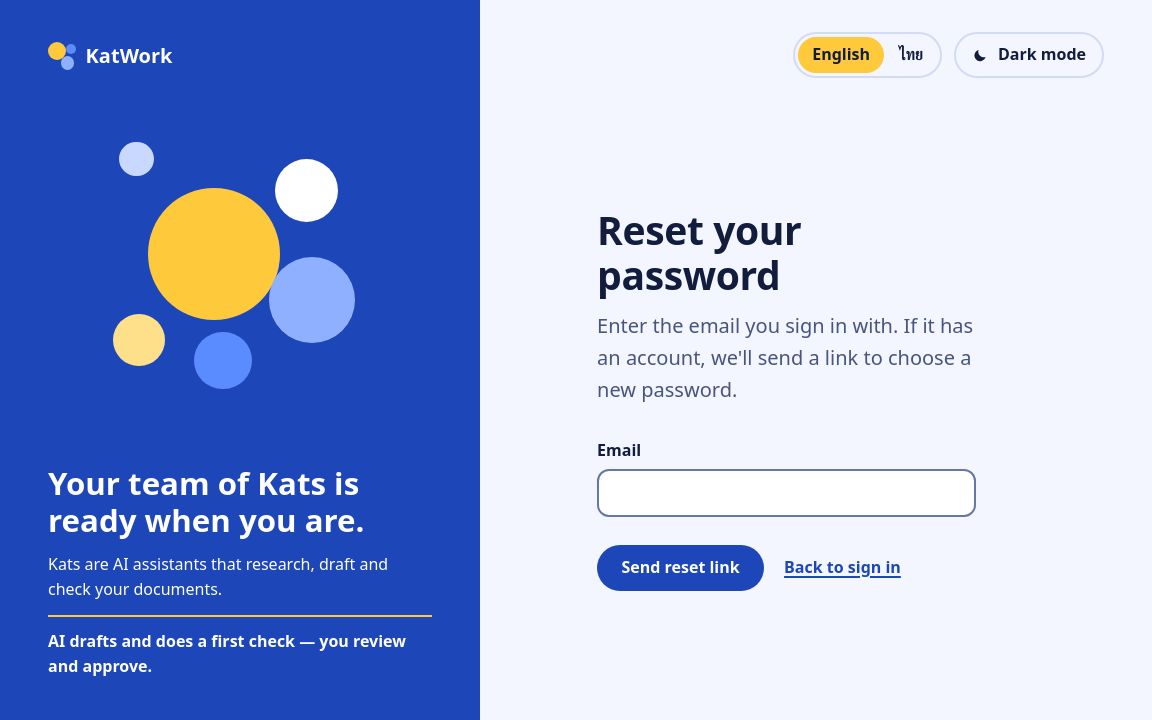
Test: reset_request_network_failure_is_shown
Type "person@example.test" into the field labelled "Email" at (787, 493), box x1=597 y1=469 x2=976 y2=517
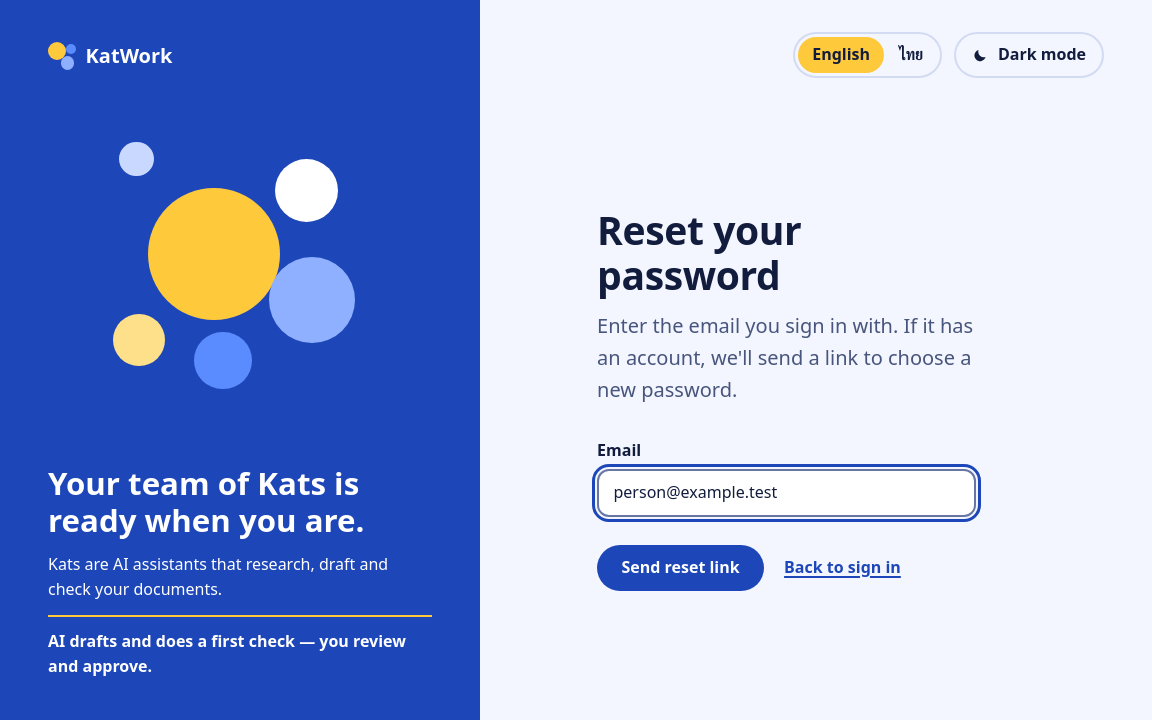
Click the button "Send reset link" at (681, 568), box x1=597 y1=545 x2=764 y2=590
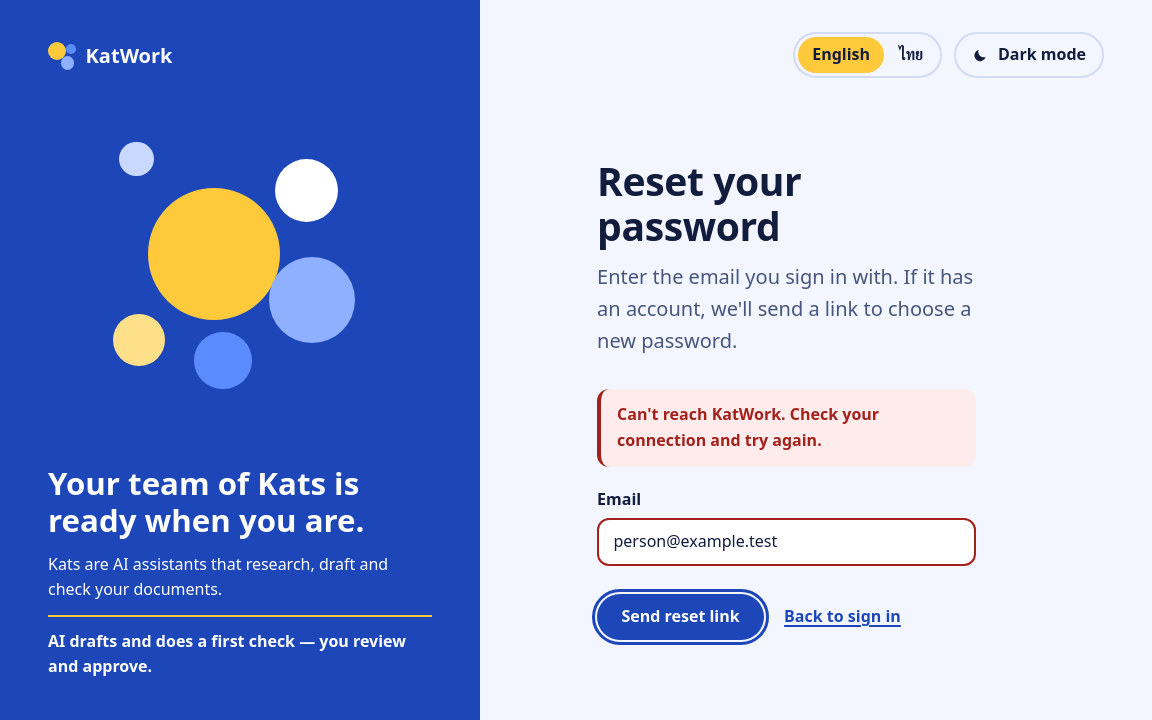
expect the message reads "Can't reach KatWork. Check your connection and try again.": met, box x1=617 y1=403 x2=879 y2=451
